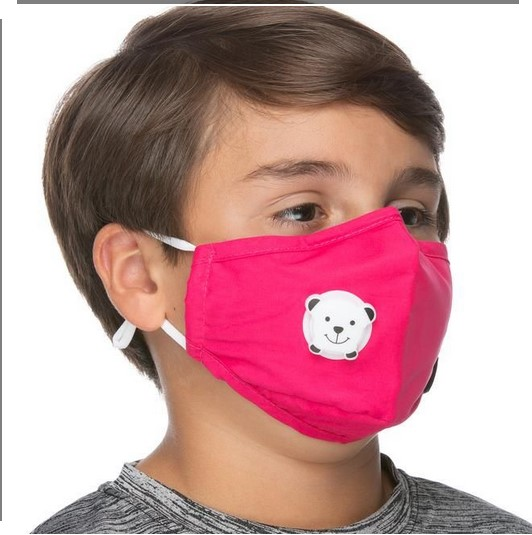face_with_mask: (88, 45, 458, 448)
